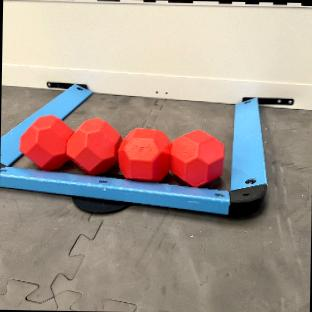Parking - Part: (0, 84, 266, 212)
